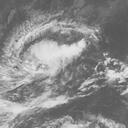cyclone: (15, 20, 87, 79)
